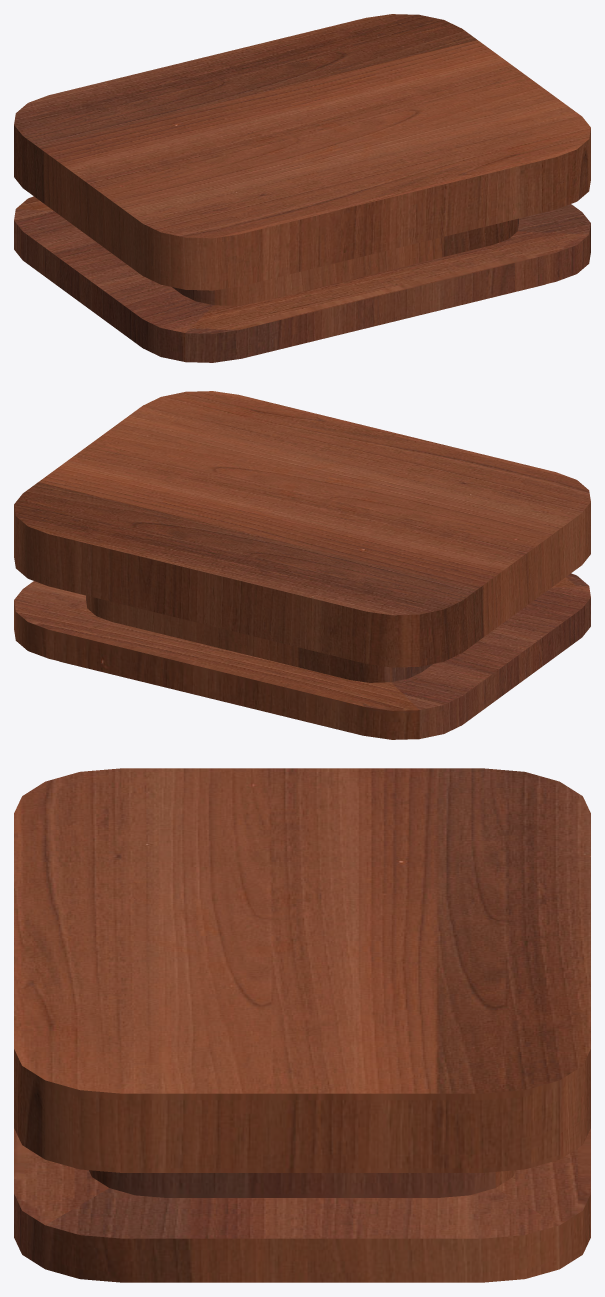
File: CenterTable_2.fbx
The picture shows the model from 3 angles, top to bottom: view 1: azimuth 30°, elevation 25°; view 2: azimuth 150°, elevation 25°; view 3: azimuth 270°, elevation 25°; orthographic projection. The views are drawn at different scales.
Visible parts, largest first — view 1: Cube.001; view 2: Cube.001; view 3: Cube.001.
Part boxes in pixels (x1=…): Cube.001: x1=14, y1=14, x2=590, y2=362; Cube.001: x1=14, y1=391, x2=590, y2=739; Cube.001: x1=14, y1=768, x2=590, y2=1282.
Bounding box in the file's own units: 160 × 45 × 120.
1 material, 1 textured.
